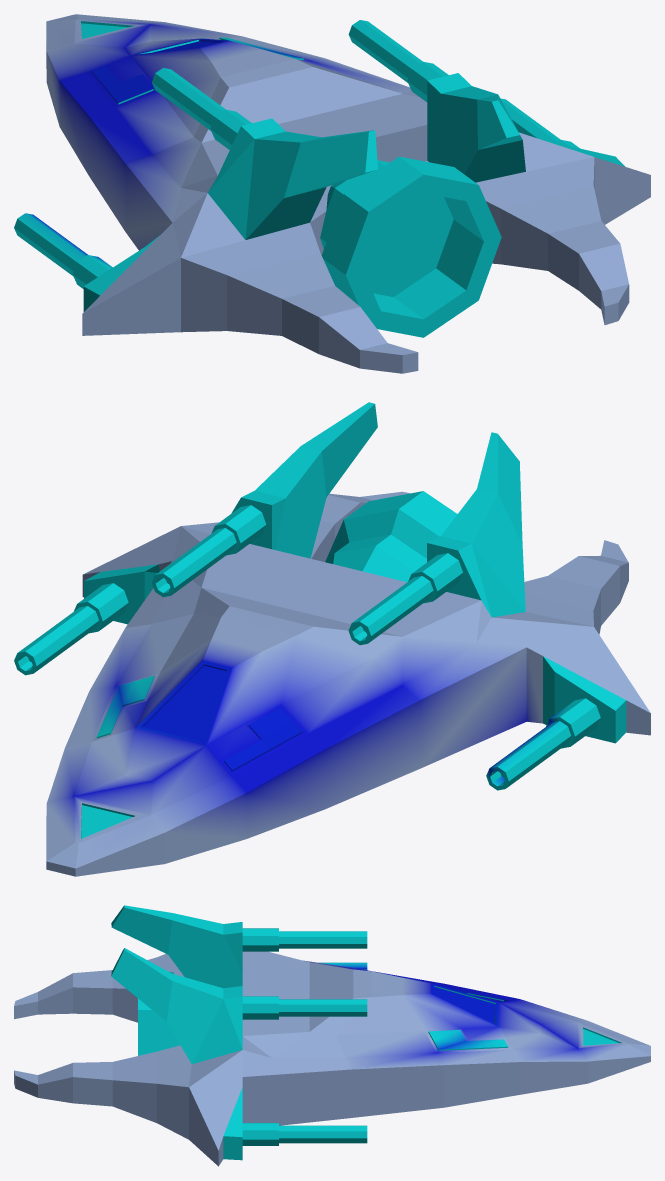
The model's file is PlayerShipB 1.fbx.
3 views of the same model, one above another, from view 1: azimuth 30°, elevation 25°; view 2: azimuth 150°, elevation 25°; view 3: azimuth 270°, elevation 25° (orthographic). The views are drawn at different scales.
Visible parts, largest first — view 1: Cube.001; view 2: Cube.001; view 3: Cube.001.
Boxes of the visible parts, x1=… form: Cube.001: x1=14, y1=14, x2=650, y2=373; Cube.001: x1=14, y1=402, x2=650, y2=876; Cube.001: x1=14, y1=905, x2=650, y2=1166.
Size of the model in its own units: 963 by 371 by 1321.
